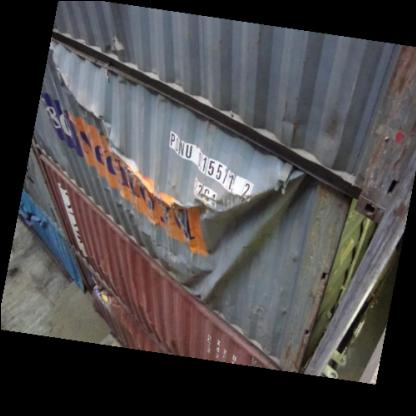Damage: (60, 93, 188, 210), (190, 171, 294, 296), (102, 216, 197, 288)
